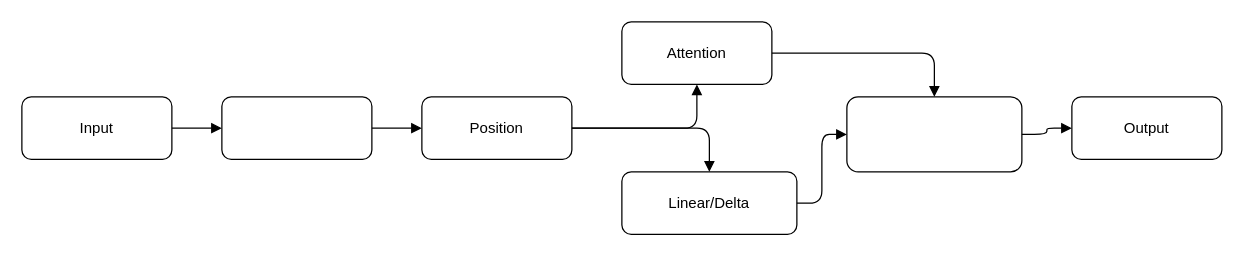
This 1244x256 diagram has some shape labels left out. Here are the shapes that lost their labels. From the top down, the centre of each, then its label:
point (296, 127): Embedding
point (934, 134): Mixer
